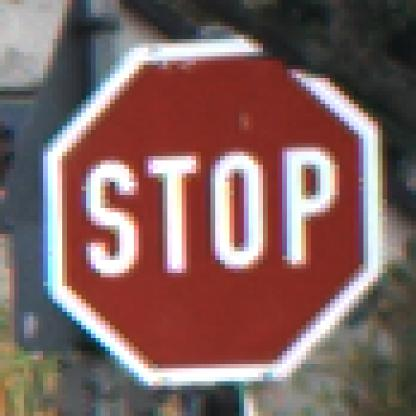stop: (24, 33, 408, 397)
